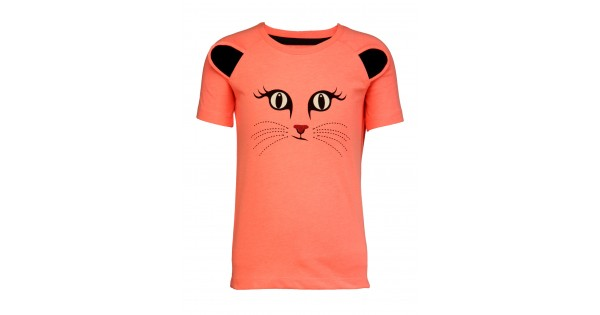T-Shirt: (193, 19, 406, 298)
